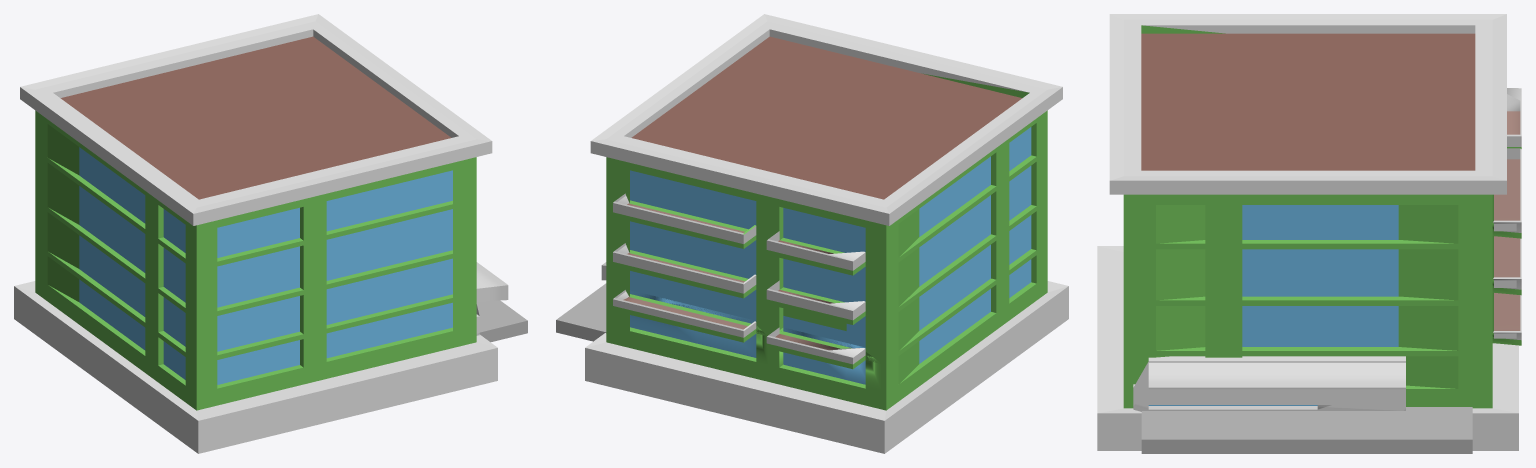
The model's file is GreenBuilding4x4x3.fbx.
3 renders of one model, left to right at view 1: azimuth 30°, elevation 25°; view 2: azimuth 150°, elevation 25°; view 3: azimuth 270°, elevation 25°, orthographic. The views are drawn at different scales.
Visible parts, largest first — view 1: House; view 2: House; view 3: House.
Part boxes in pixels (x1=…): House: x1=14, y1=14, x2=527, y2=453; House: x1=556, y1=14, x2=1068, y2=453; House: x1=1097, y1=14, x2=1521, y2=453.
Bounding box in the file's own units: 4.6 × 2.97 × 4.23.
Materials: 1 (1 with a texture image).
